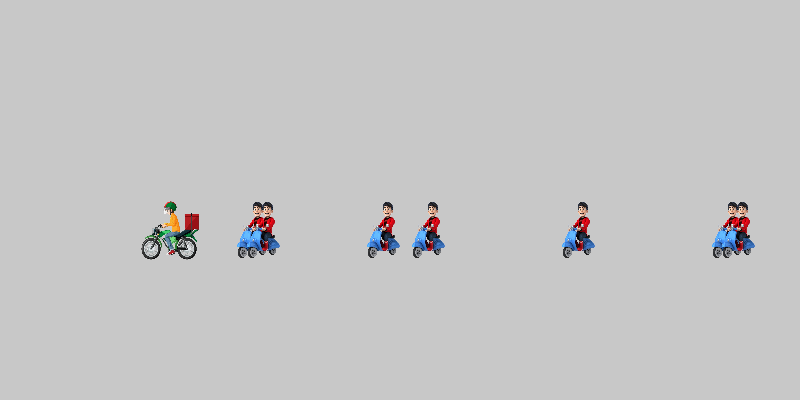helmet: (140, 200, 200, 260)
no_helmet: (225, 200, 285, 260), (235, 200, 295, 260), (355, 200, 415, 260), (400, 200, 460, 260), (550, 200, 610, 260), (700, 200, 760, 260), (710, 200, 770, 260)
